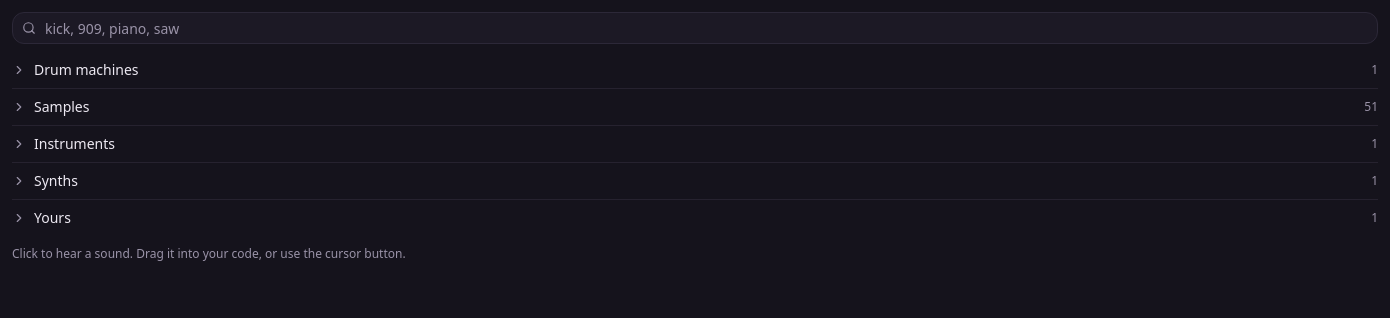
Scenario: SoundsSection › names the insert and copy buttons in a tooltip
Click the button with aria-label "Synths, 1" at (56, 180), box x1=12 y1=163 x2=1378 y2=199
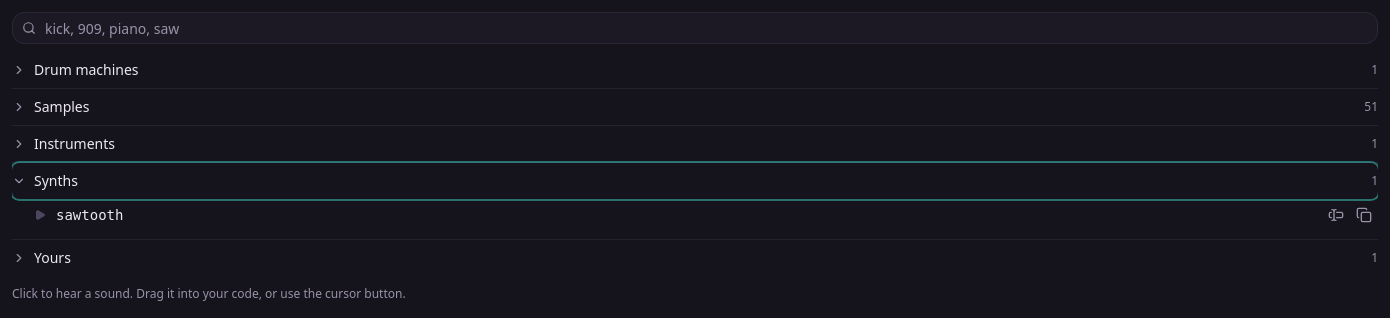
Hover over the button named "Insert note(\"c3\").s(\"sawtooth\") at cursor" at (1336, 215), box x1=1322 y1=201 x2=1350 y2=229
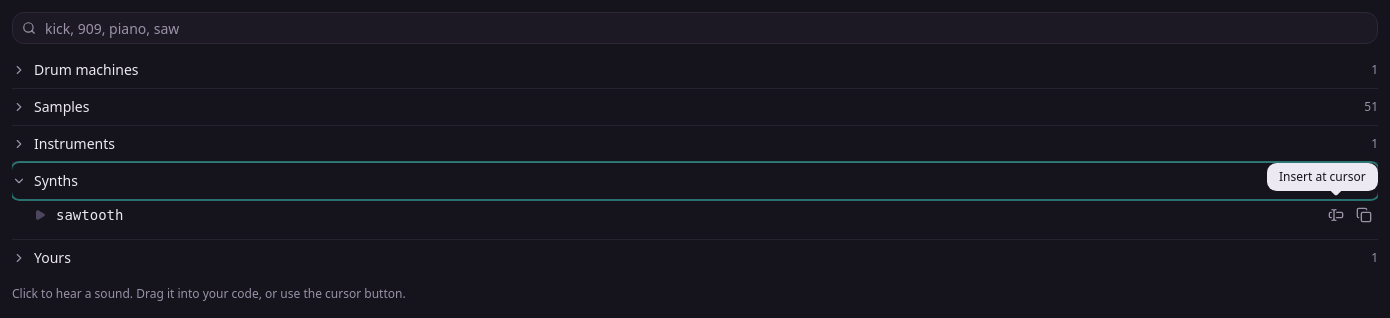
Expected: the tooltip reads "Insert at cursor", x1=1279 y1=168 x2=1366 y2=185
